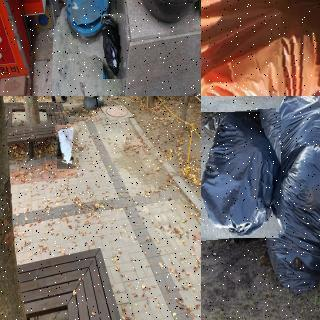Garbage: (201, 0, 320, 96), (201, 110, 283, 239), (265, 134, 320, 289), (268, 96, 320, 172), (102, 14, 127, 79), (56, 125, 79, 169)
